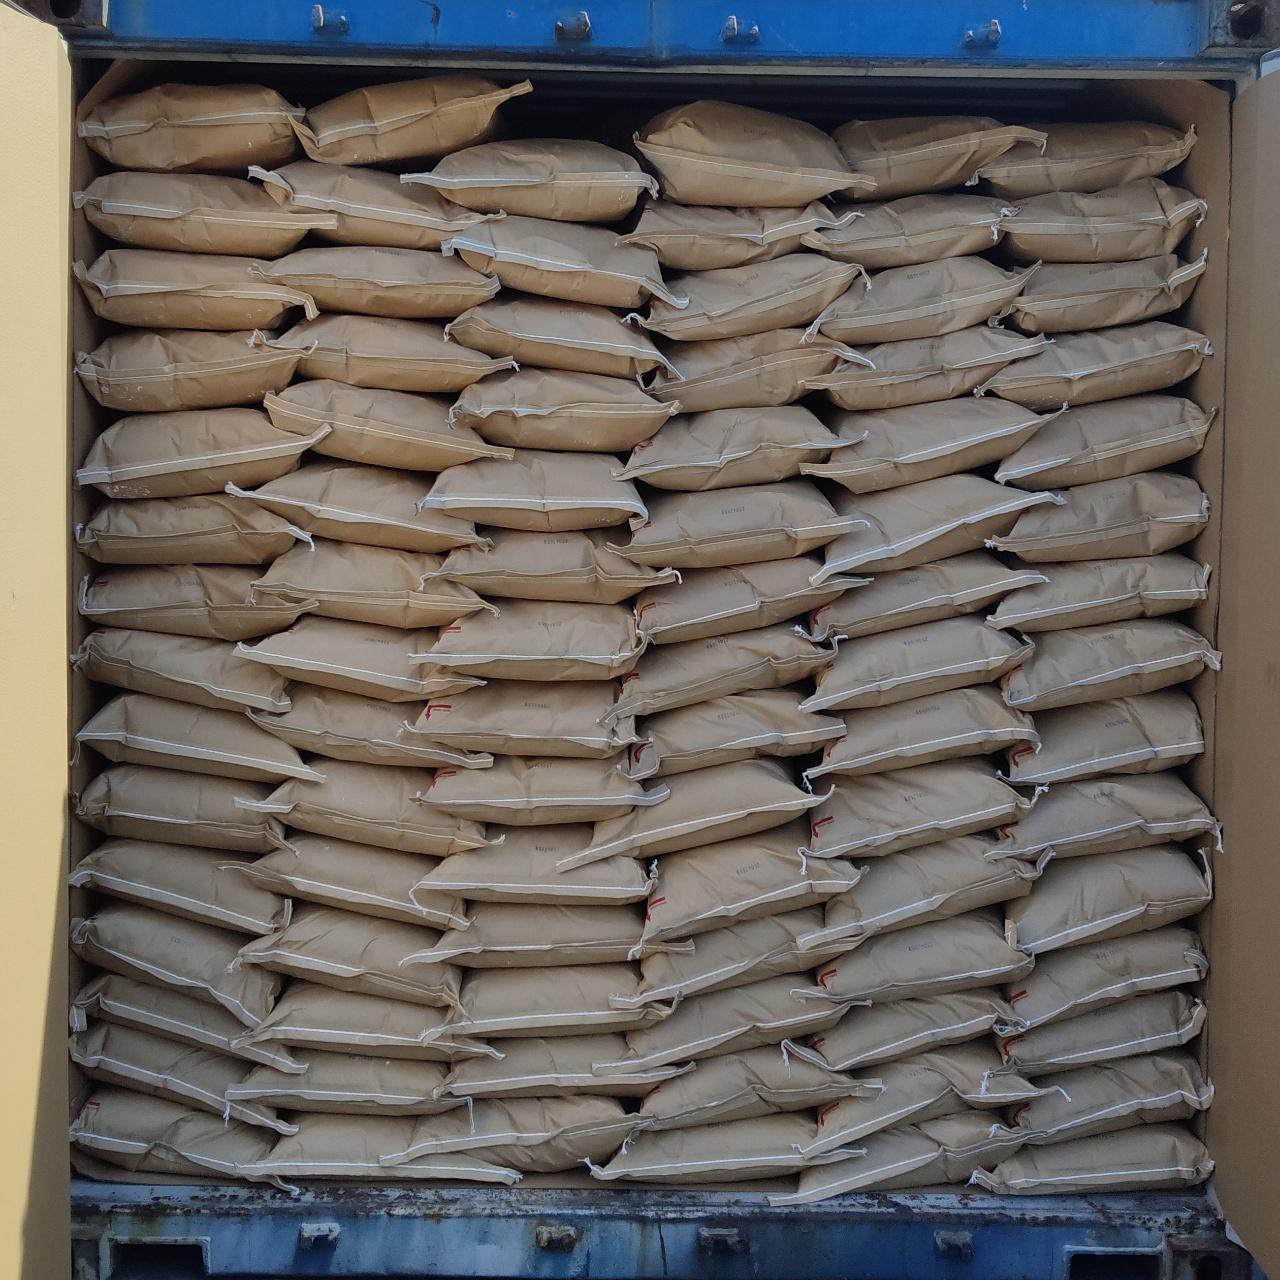sack: (559, 758, 832, 871), (814, 474, 1060, 582), (812, 1038, 1046, 1150), (642, 822, 856, 944), (74, 900, 282, 1024), (72, 1086, 302, 1194), (634, 100, 868, 206), (74, 1022, 292, 1134), (70, 974, 306, 1075), (816, 834, 1040, 940), (250, 756, 490, 854), (1000, 924, 1204, 1038), (240, 902, 462, 1006), (782, 1110, 1022, 1206), (442, 214, 678, 310), (806, 758, 1036, 856), (626, 906, 854, 1004), (806, 684, 1038, 780), (1004, 844, 1210, 952), (228, 832, 464, 926), (806, 398, 1046, 490), (264, 380, 508, 470), (242, 458, 478, 550), (808, 614, 1030, 710), (974, 320, 1210, 410), (80, 692, 316, 782), (298, 72, 528, 164), (810, 550, 1042, 641), (626, 974, 860, 1064), (612, 622, 834, 716), (618, 480, 860, 566), (800, 908, 1030, 998), (986, 772, 1220, 860), (240, 616, 484, 700), (1000, 616, 1218, 710), (80, 172, 328, 254), (74, 838, 290, 932), (78, 408, 312, 494), (252, 158, 480, 246), (626, 686, 844, 778), (630, 252, 860, 338), (998, 688, 1204, 784), (994, 394, 1208, 486), (250, 684, 490, 766), (414, 140, 654, 222), (258, 314, 516, 390), (638, 554, 866, 640), (80, 84, 302, 172), (990, 470, 1206, 560), (640, 1044, 876, 1126), (256, 540, 490, 622), (448, 292, 666, 380), (1008, 1048, 1210, 1142), (622, 406, 856, 486), (254, 982, 494, 1060), (452, 366, 674, 450), (78, 248, 316, 326), (428, 528, 678, 602), (812, 256, 1026, 342), (816, 326, 1046, 406), (78, 764, 286, 852), (592, 1114, 860, 1182), (258, 1112, 518, 1182), (418, 826, 650, 904), (786, 990, 1012, 1070), (996, 248, 1206, 334), (394, 1096, 638, 1170), (998, 988, 1202, 1076), (416, 600, 646, 678), (414, 902, 690, 966), (646, 328, 858, 410), (440, 964, 674, 1038), (80, 628, 286, 712), (78, 330, 294, 410), (258, 246, 498, 318), (416, 680, 636, 758), (970, 1122, 1214, 1192), (970, 122, 1194, 198), (424, 450, 646, 526), (990, 552, 1206, 630), (1002, 178, 1206, 260), (832, 118, 1040, 198), (422, 756, 668, 822), (82, 566, 306, 638), (80, 494, 308, 564), (802, 194, 1006, 270), (620, 200, 838, 270), (228, 1050, 466, 1112), (444, 1034, 688, 1094)
